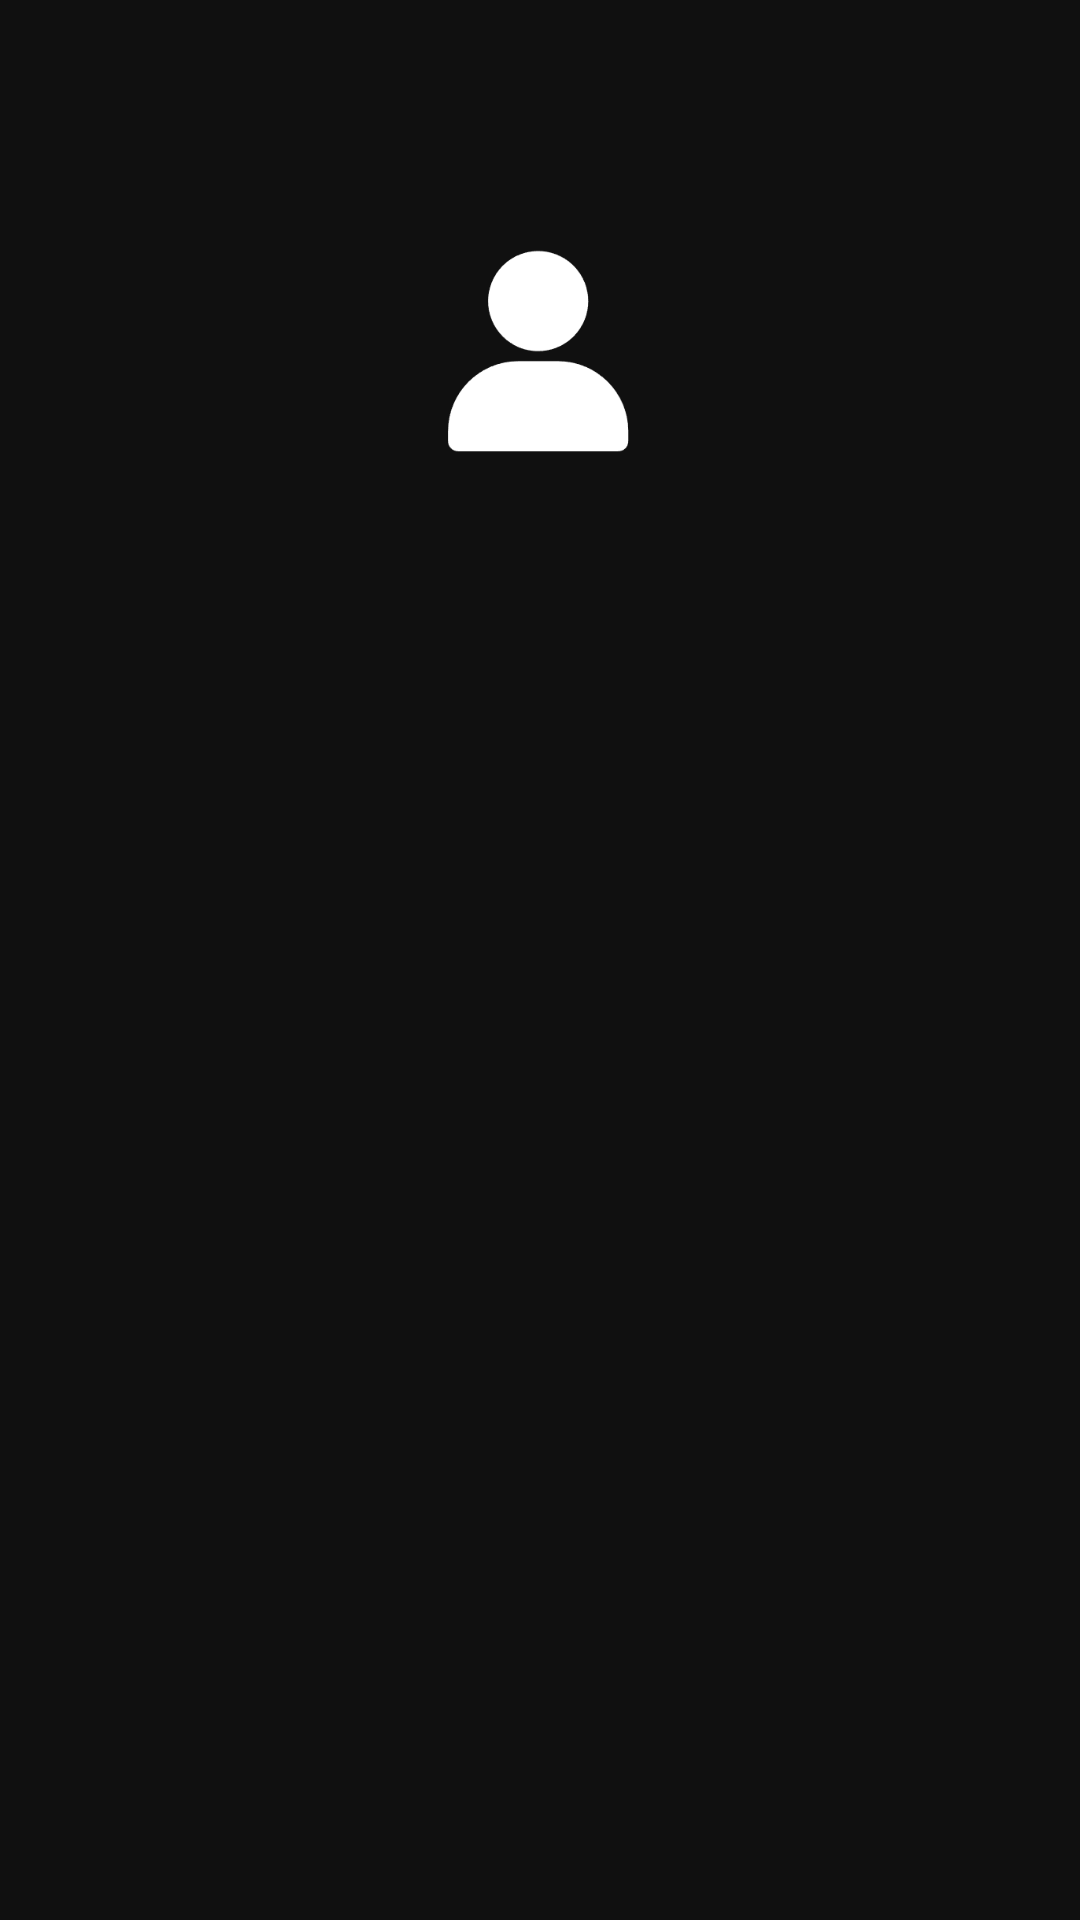

Icon bounding boxes for this 1080 x 1920 phone screenshot, format (x1, y1, x2, y2):
user: (448, 250, 629, 452)
